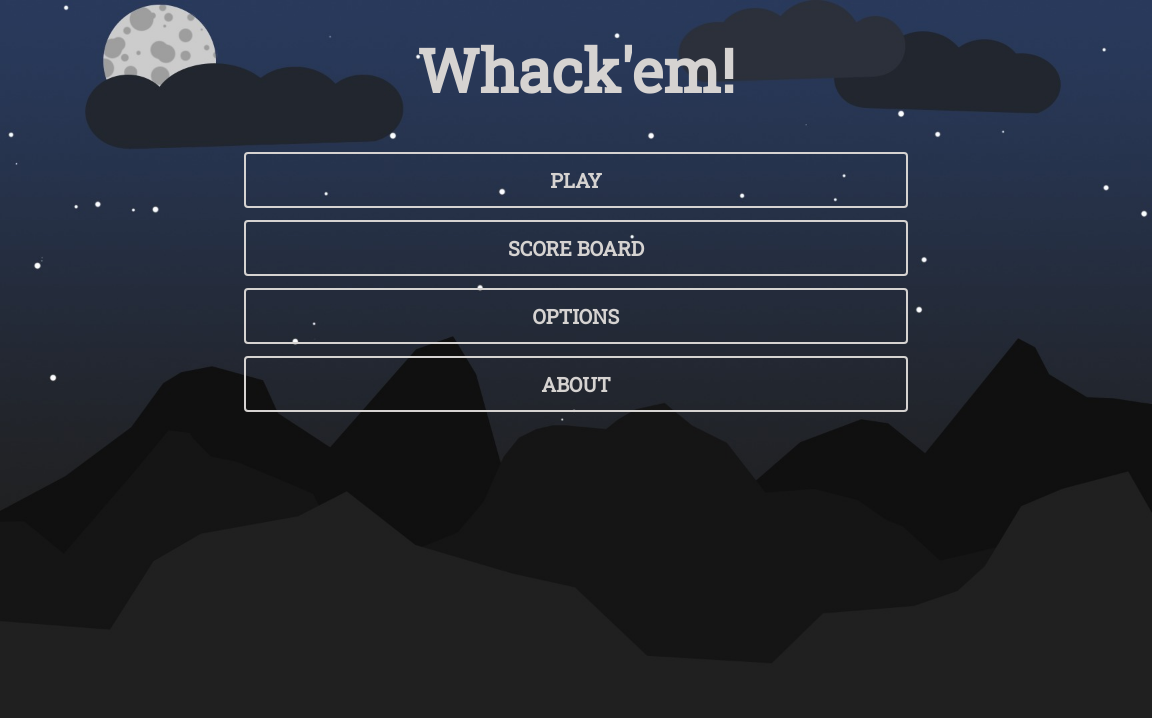
Test: whack-em home › redirects to options when player name is not set
Click the link with id "game_btn". click: (576, 180)
box: [244,152,908,208]
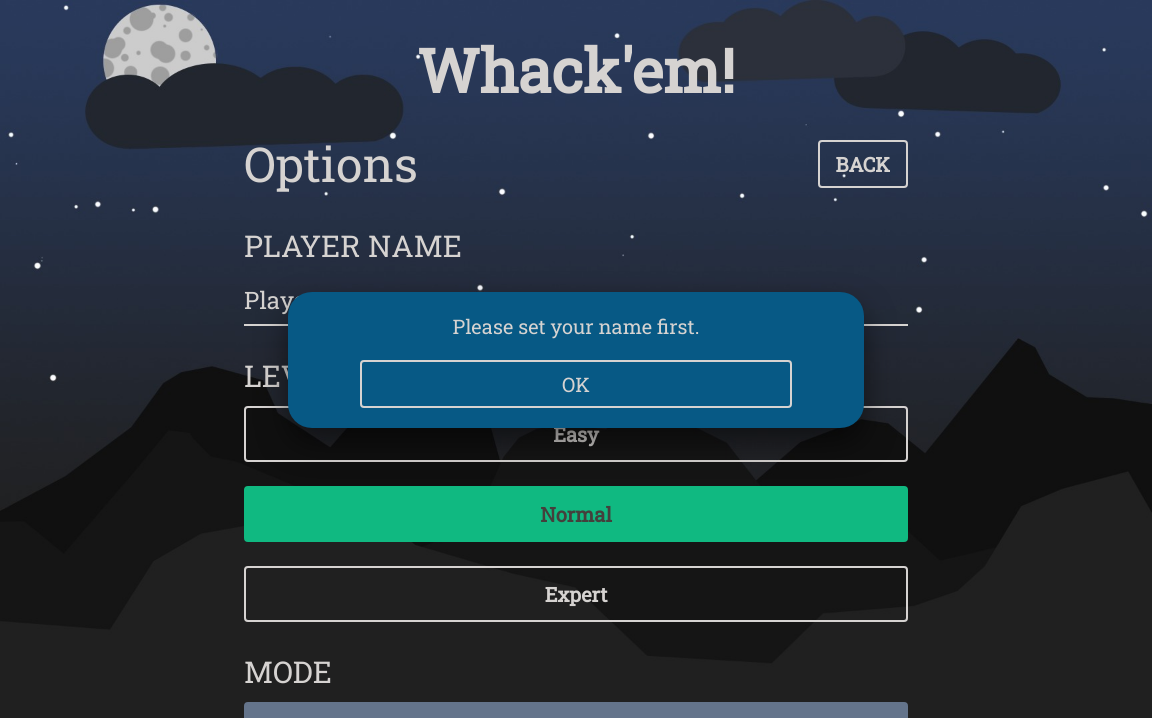
Result: the element with id "confirmation_dialog" is shown at [288,292,864,428]
Click the button "OK". click: (576, 384)
box: [360,360,792,408]
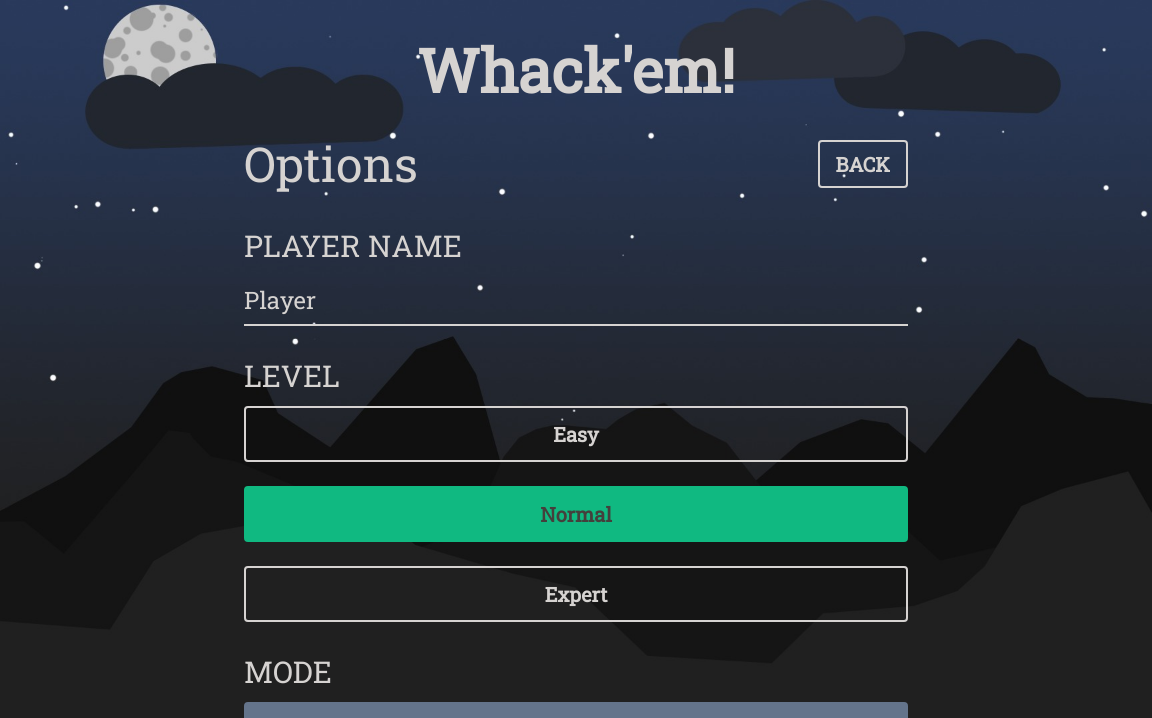
Replace the text in the field with id "name" with "TestPlayer". click: (576, 301)
box: [244,276,908,326]
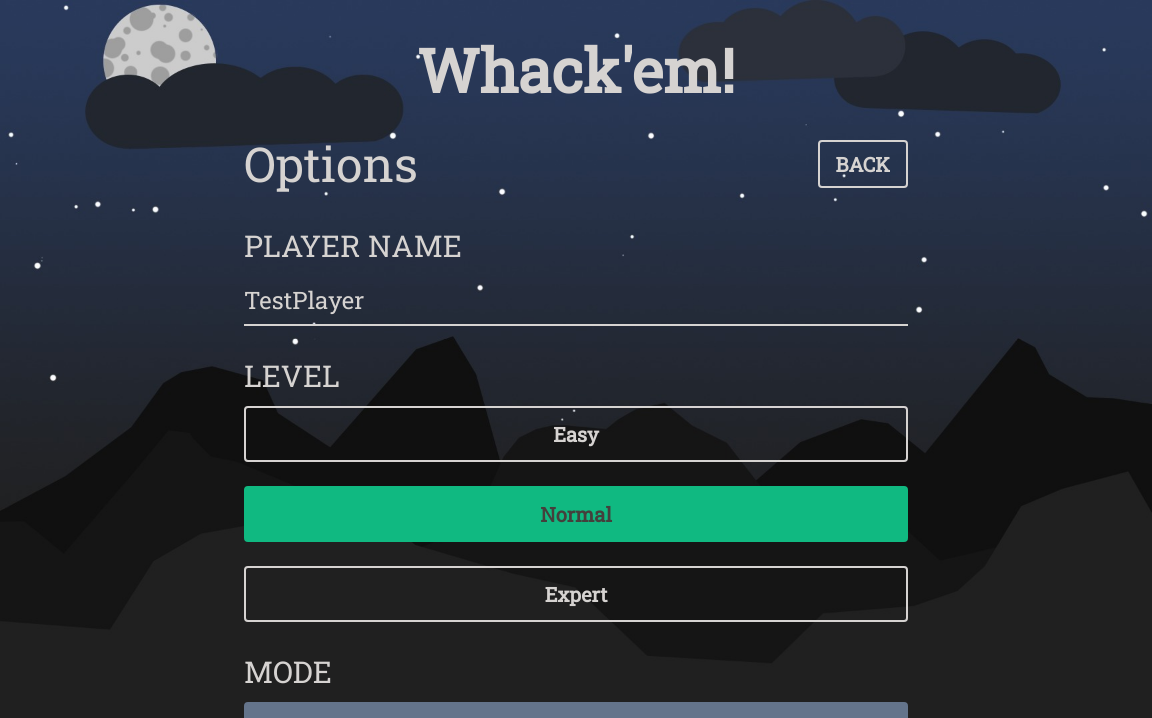
Result: the field with id "name" holds "TestPlayer" at [244,276,908,326]
